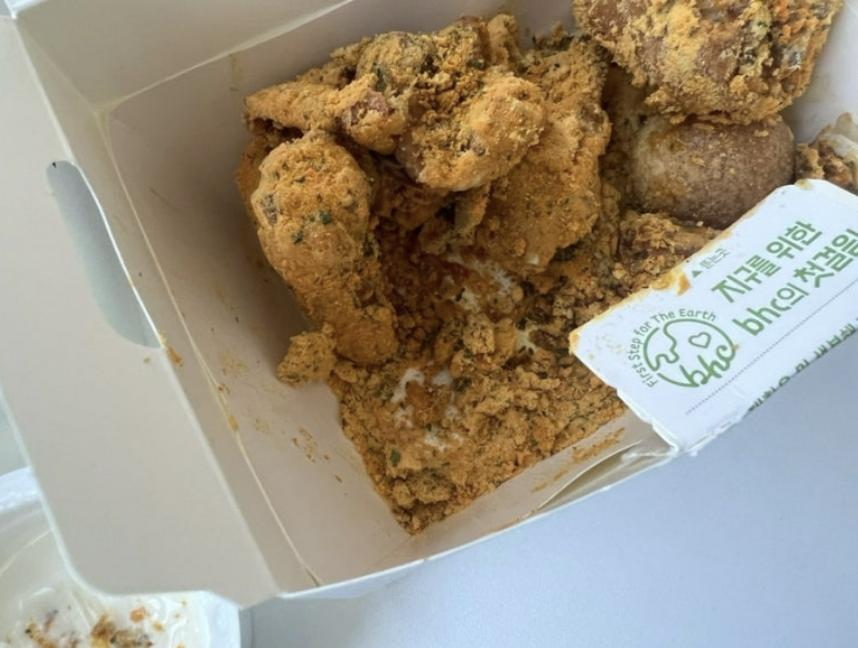Lunch Box: (0, 0, 857, 605)
